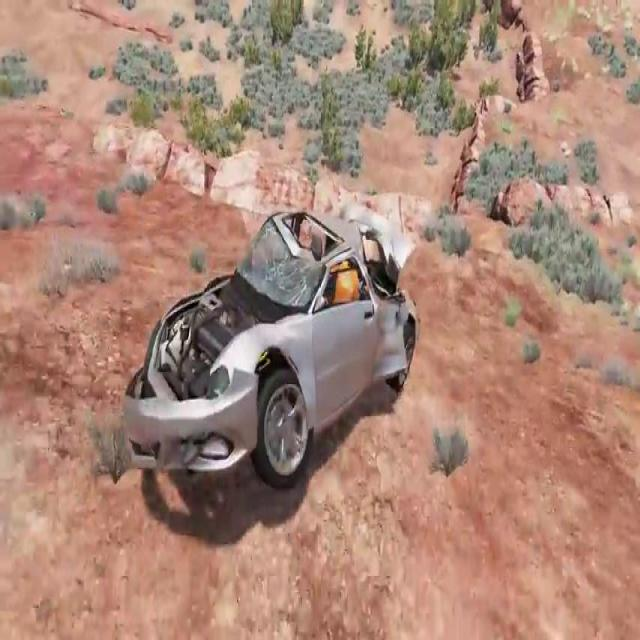severe: (118, 182, 419, 490)
